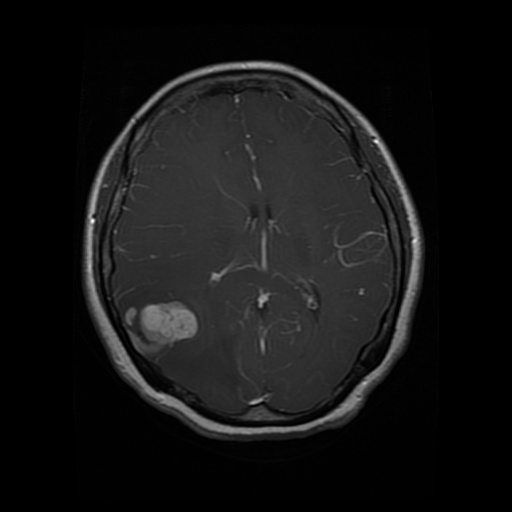glioma: (123, 299, 199, 357)
